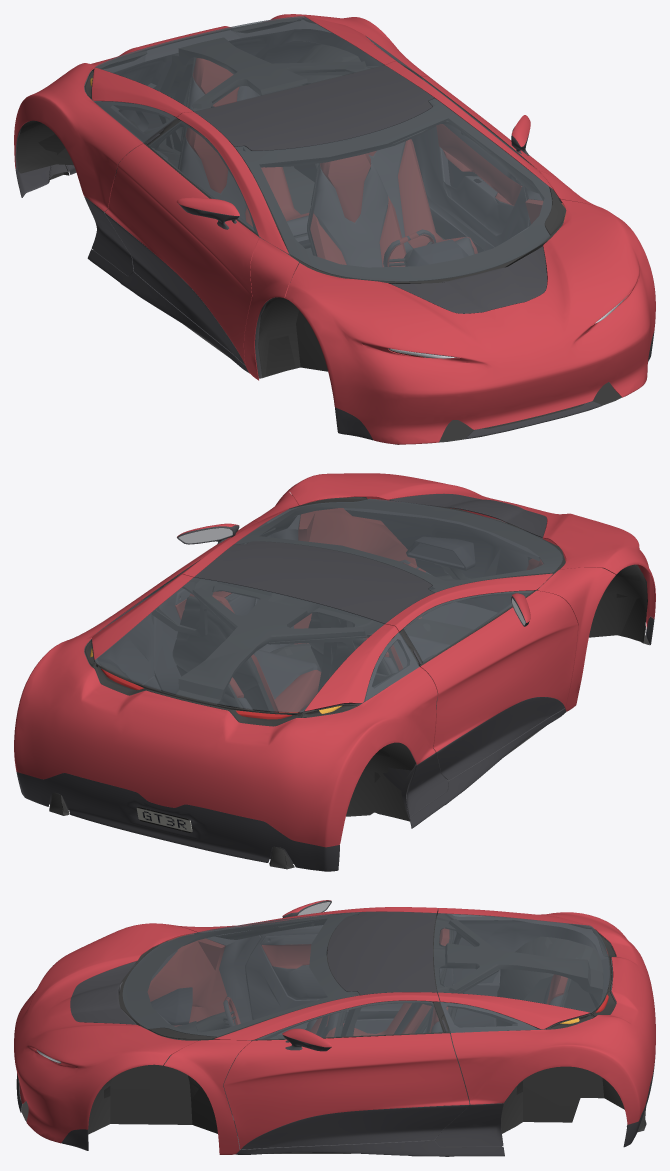
Rendered from concept_coupe.glb.
3 renders of one model, top to bottom at view 1: azimuth 30°, elevation 25°; view 2: azimuth 150°, elevation 25°; view 3: azimuth 270°, elevation 25°, orthographic. The views are drawn at different scales.
Parts seen in each view (by area): view 1: body; view 2: body; view 3: body.
Boxes of the visible parts, bbox=[...] form: body: bbox=[14, 14, 655, 444]; body: bbox=[14, 473, 655, 871]; body: bbox=[14, 900, 655, 1156].
Size of the model in its own units: 2.34 by 1.06 by 4.36.
Materials: 13 (1 with a texture image).
